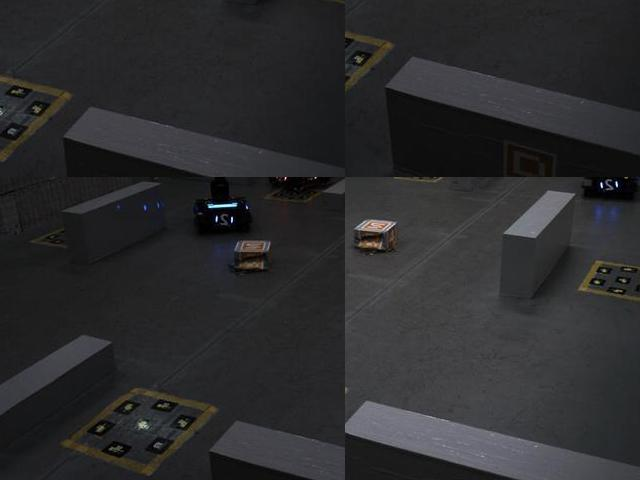armor: (595, 177, 625, 197), (211, 213, 238, 228), (301, 177, 326, 185), (271, 177, 290, 185)
